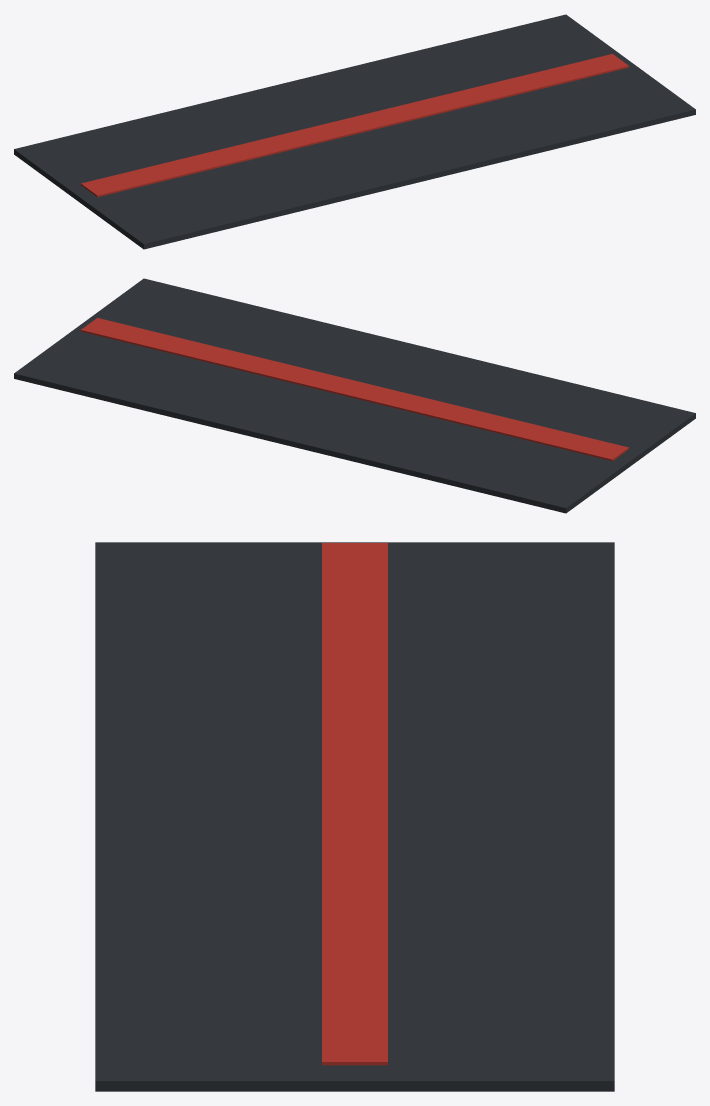
The model's file is floor.breach_threshold.glb.
3 views of the same model, one above another, from view 1: azimuth 30°, elevation 25°; view 2: azimuth 150°, elevation 25°; view 3: azimuth 270°, elevation 25° (orthographic). The views are drawn at different scales.
Visible parts, largest first — view 1: threshold_floor, breach_line; view 2: threshold_floor, breach_line; view 3: threshold_floor, breach_line.
Boxes of the visible parts, x1=… form: threshold_floor: x1=14, y1=14, x2=695, y2=249; breach_line: x1=81, y1=54, x2=628, y2=197; threshold_floor: x1=14, y1=278, x2=695, y2=513; breach_line: x1=81, y1=318, x2=628, y2=461; threshold_floor: x1=95, y1=542, x2=614, y2=1091; breach_line: x1=322, y1=543, x2=387, y2=1065.
Size of the model in its own units: 5.4 by 0.093 by 2.2.
